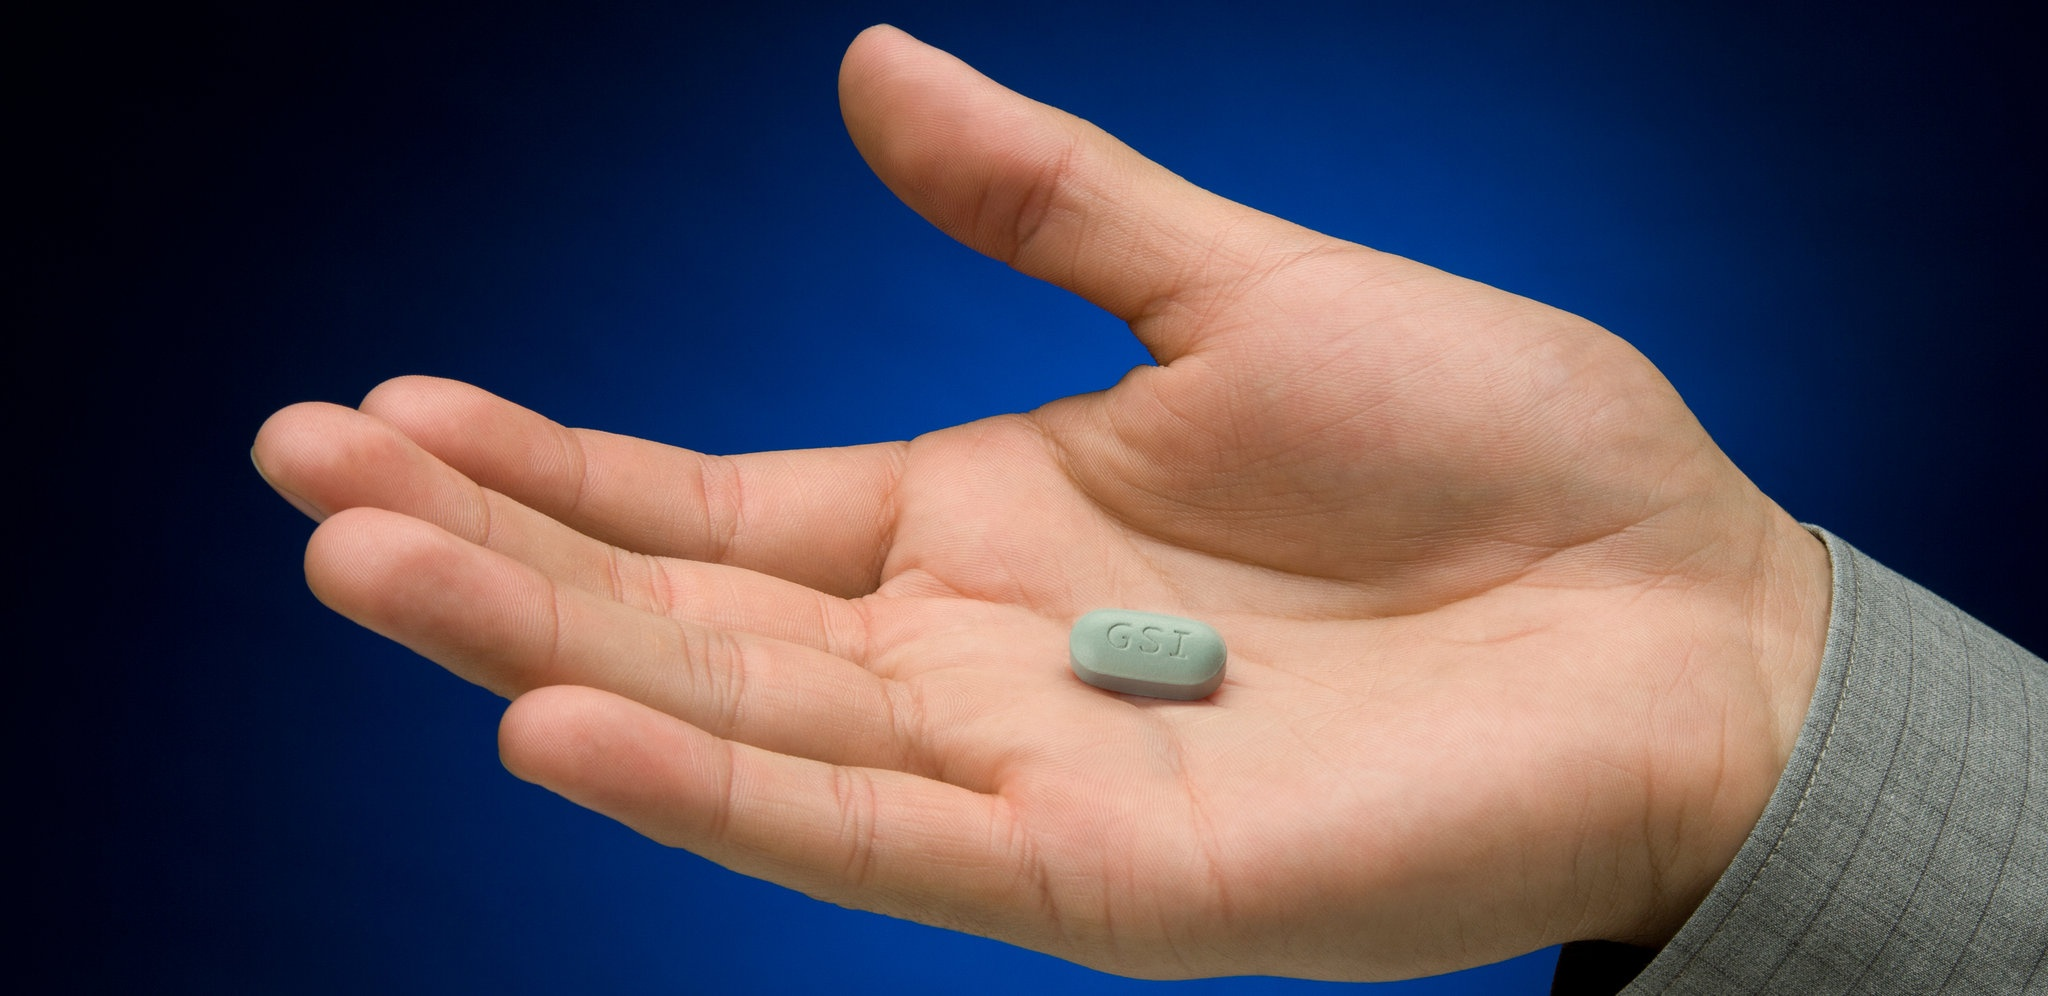pills: (1076, 606, 1225, 691)
